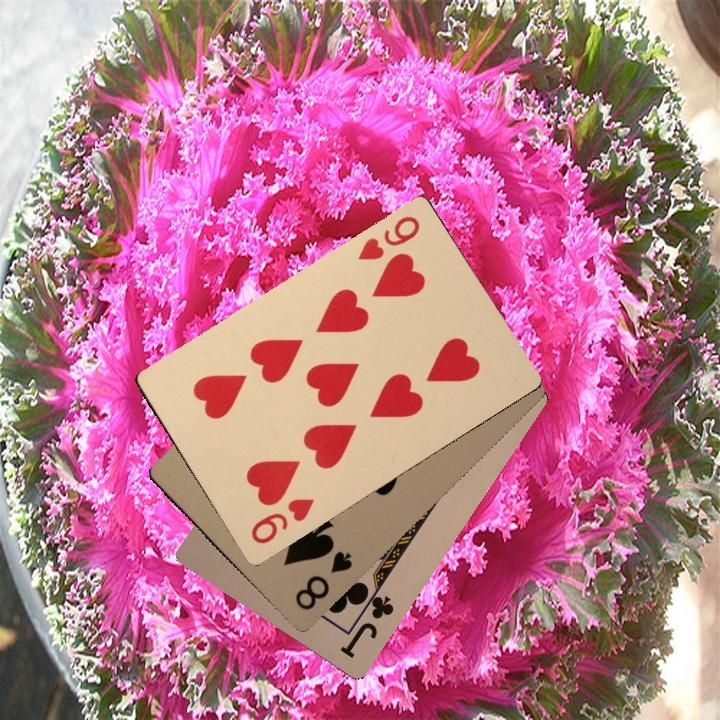8s: (290, 546, 355, 613)
9h: (247, 494, 317, 547), (354, 211, 423, 263)
Jc: (336, 582, 397, 661)
